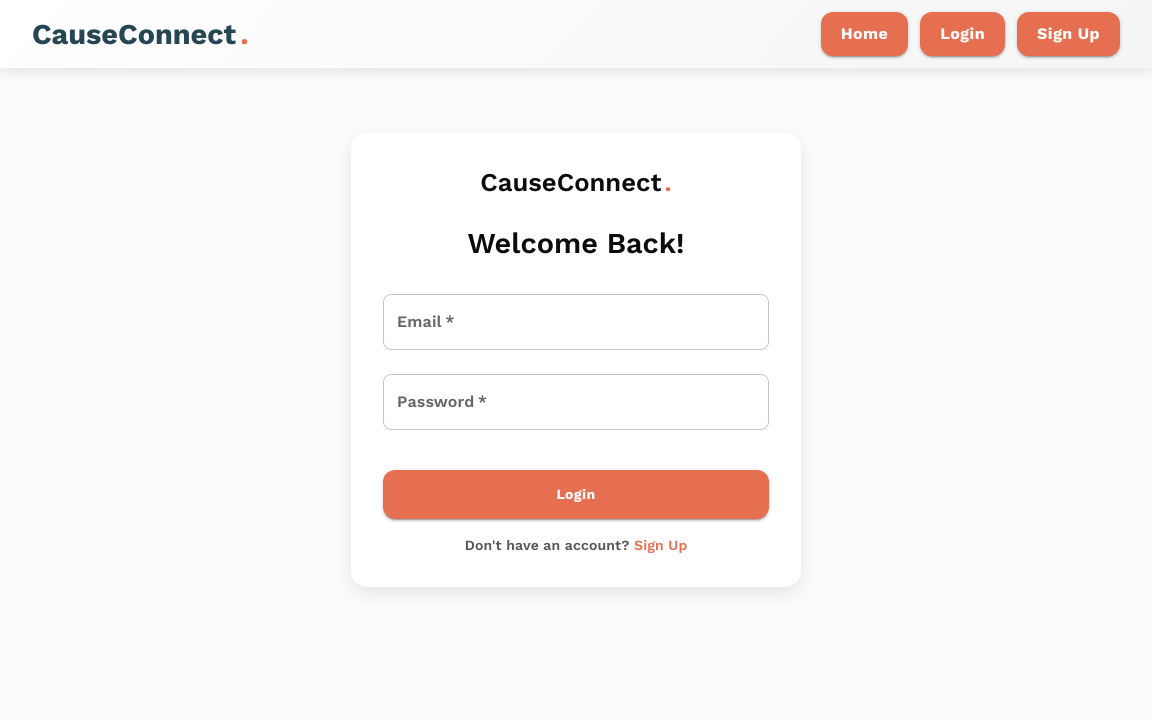
🧪 Login Page E2E › shows an error when invalid credentials are entered
Type "wronguser@example.com" into the field labelled "Email *". click: (576, 322)
box: [383,294,769,350]
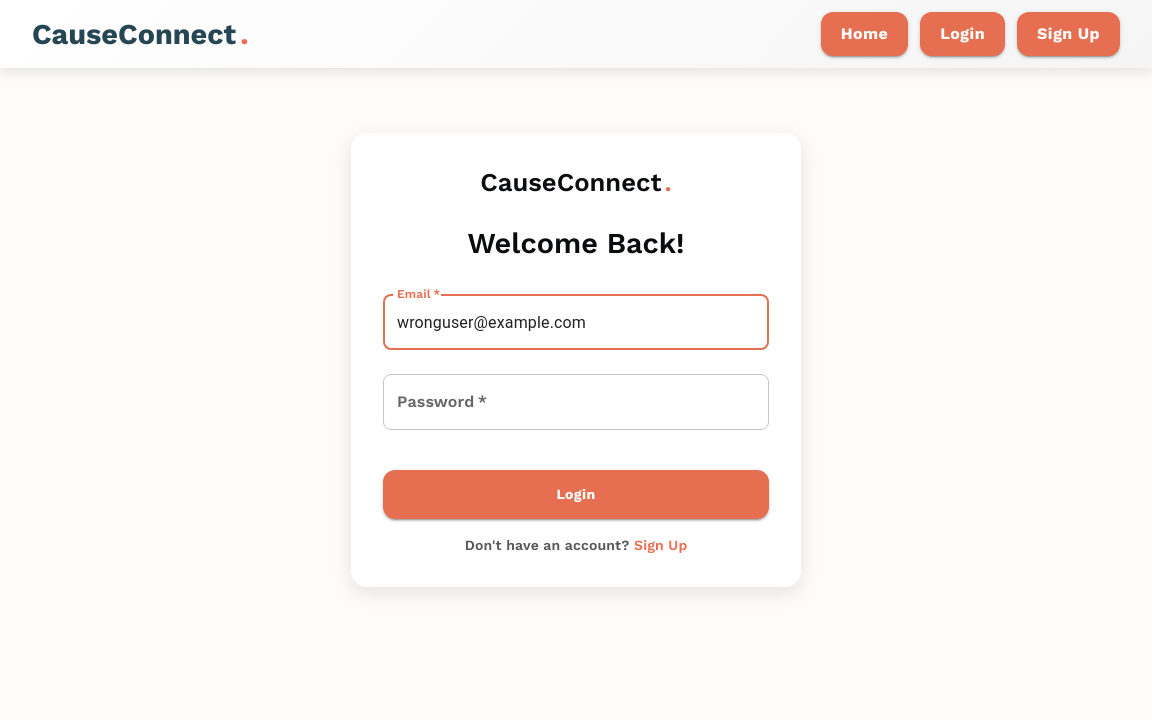
Type "wrongpassword" into the password field labelled "Password *". click: (576, 402)
box: [383,374,769,430]
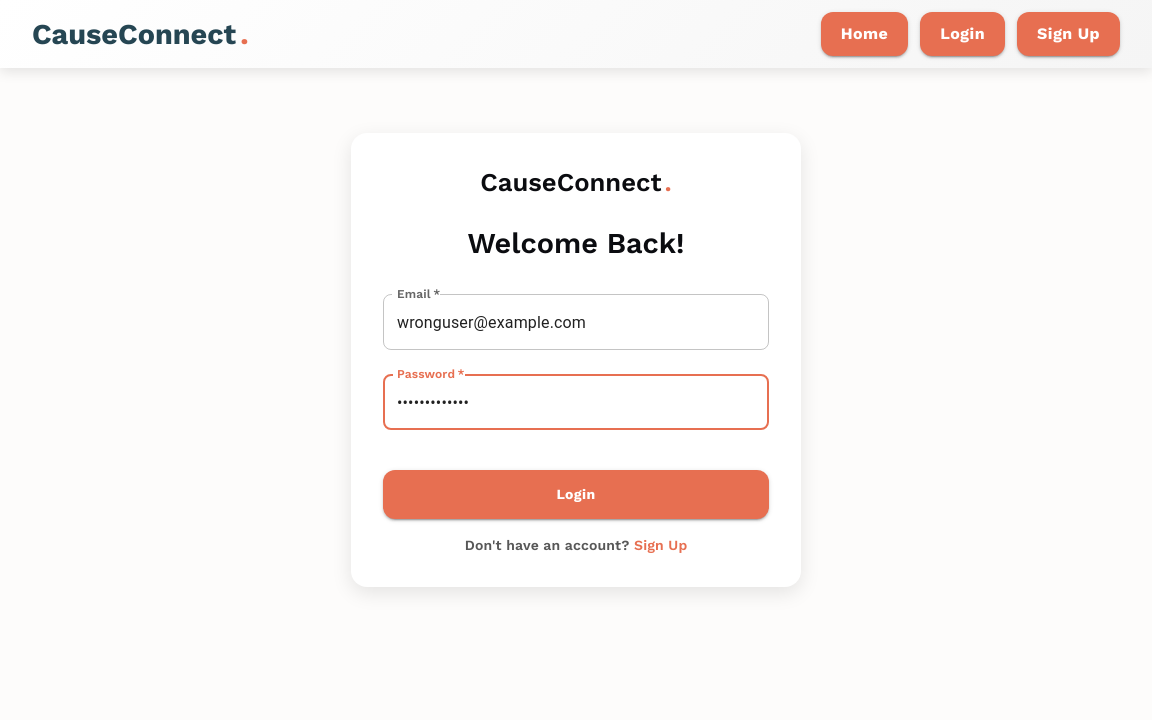
Click the button "Login". click: (576, 495)
box: [383,470,769,519]
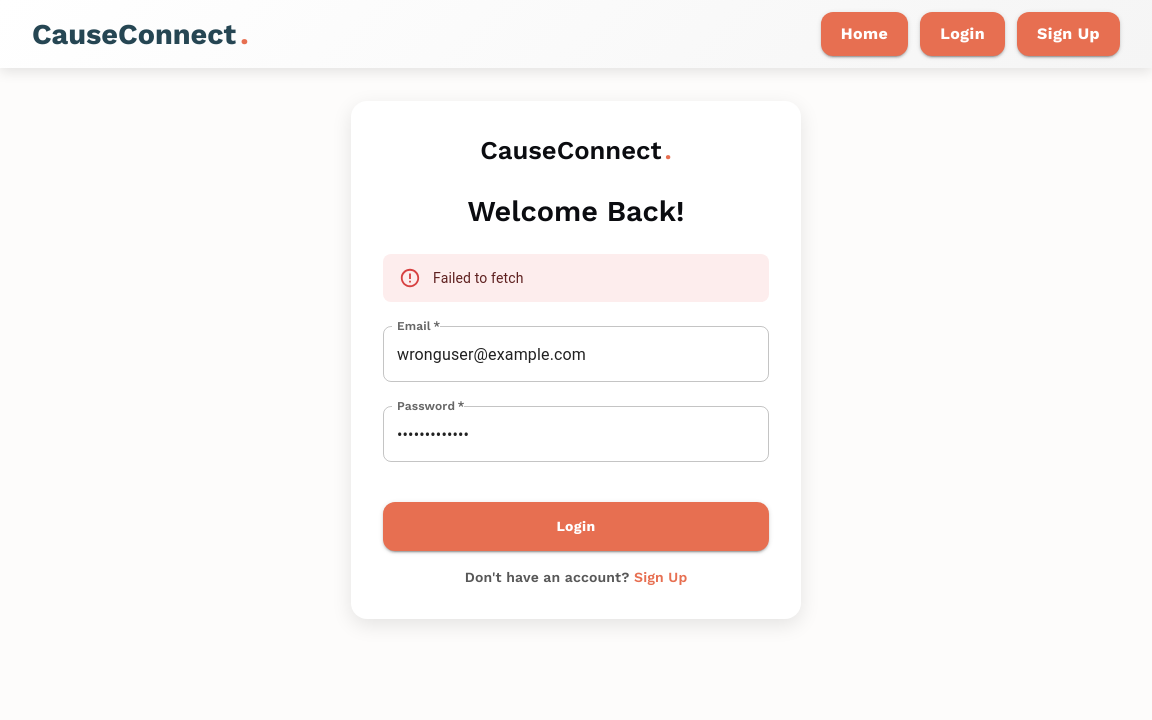
expect the text "Failed to fetch" is shown: met, box [433,270,524,286]
